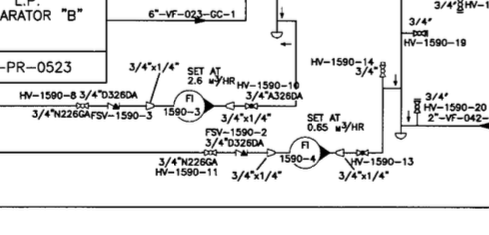Instrument-offset: (162, 85, 206, 125), (278, 135, 322, 171)
